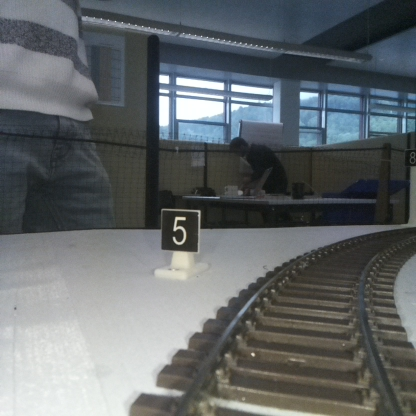black-stop-5: (161, 211, 198, 276)
